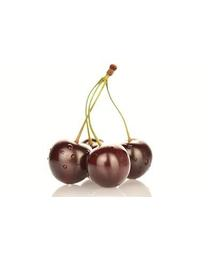cherry: (49, 142, 92, 184), (89, 146, 129, 189), (116, 140, 152, 180)
